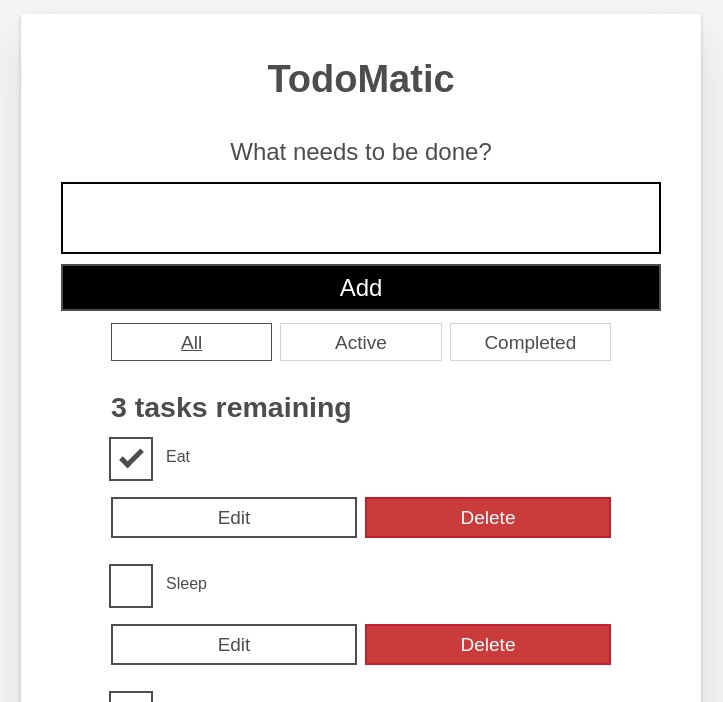
Test: To-do app › can edit todo item
The width and height of the screenshot is (723, 702).
Expected: the list item "Eat Edit Delete" is shown, [111,439,611,538]
Click the 1st button "Edit" at {"x": 234, "y": 518}, box [111,497,357,538]
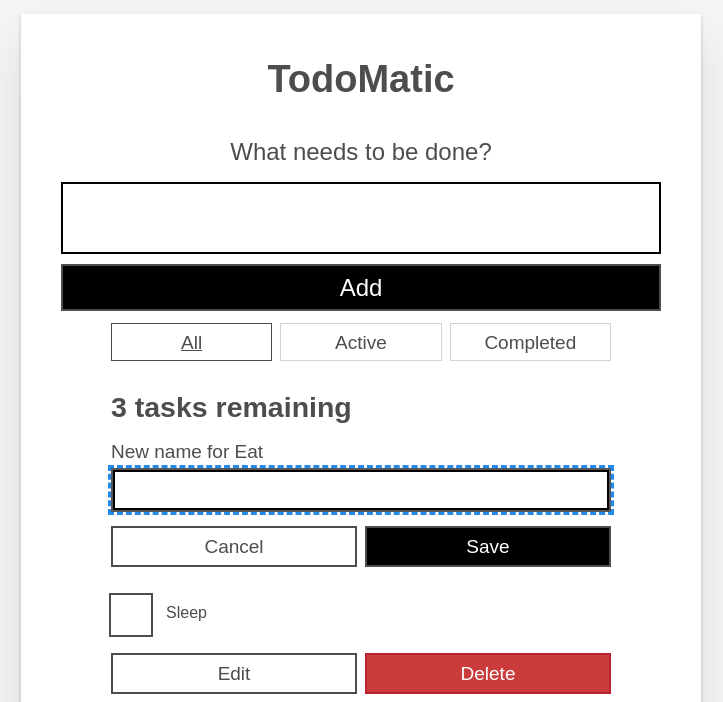
Type "Walk" into the field with class "todo-text" at {"x": 361, "y": 490}, box [111,468,611,512]
Then press Enter
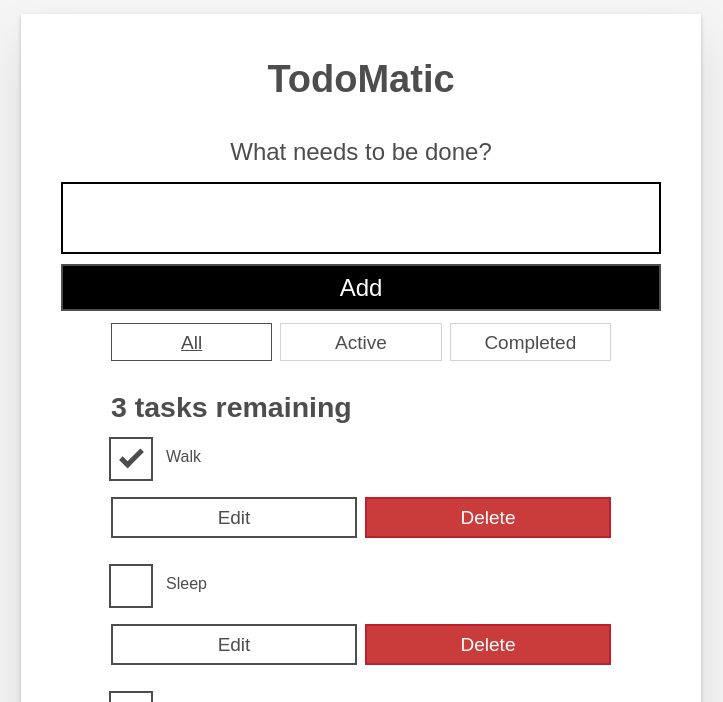
Now the text "Eat" is gone
Now the checkbox labelled "Walk" is shown, box [151,439,216,472]
